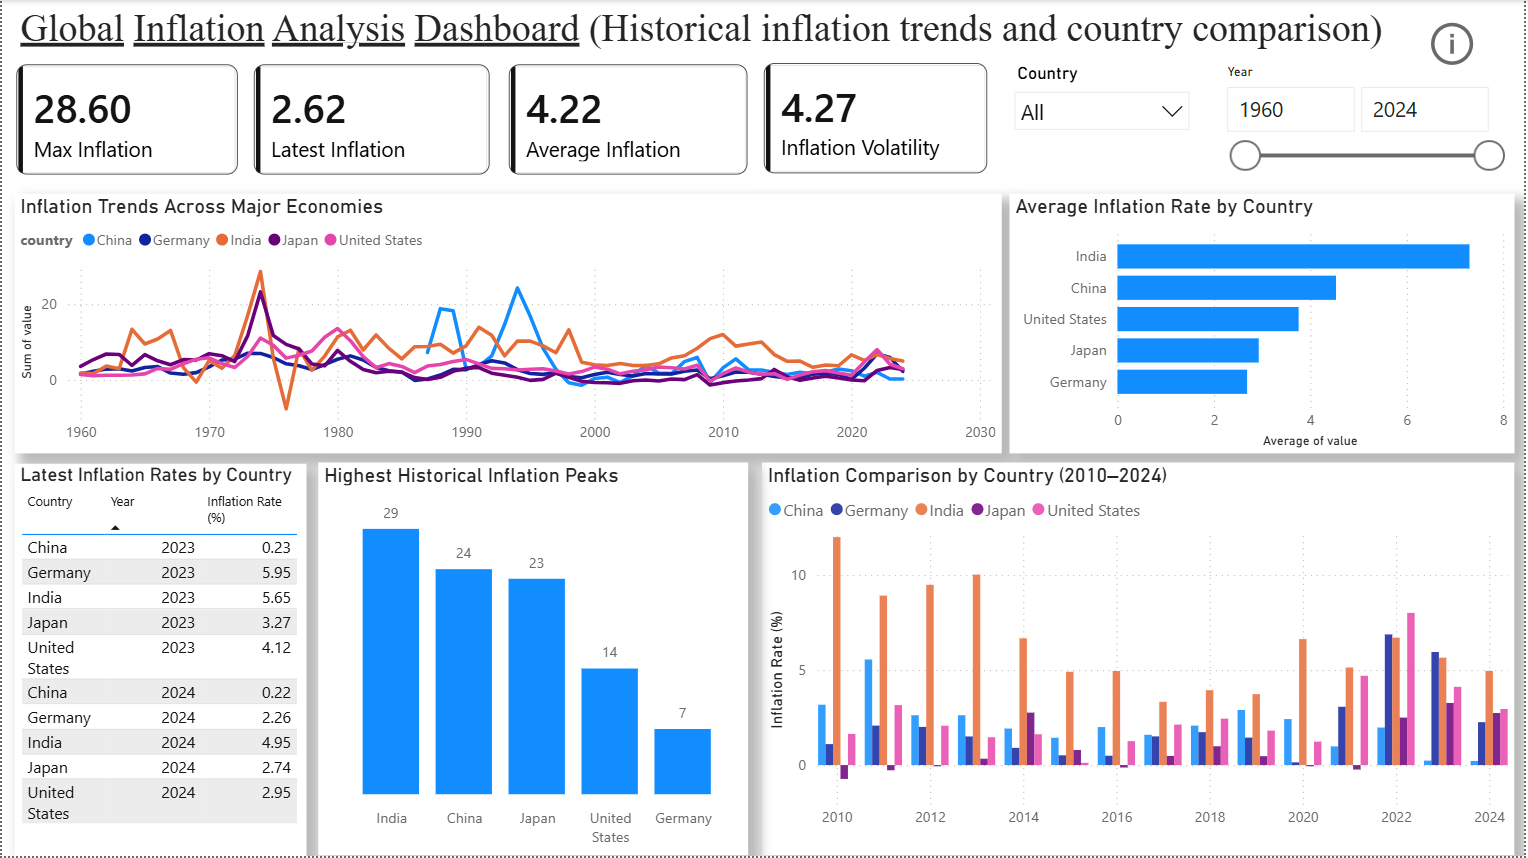

This screenshot's page, from the dashboard's own definition file:
{"tool":"powerbi","page":{"name":"Inflation Analysis","canvas":[1280,720],"ordinal":2},"visuals":[{"type":"textbox","box":[10.2,0,1177.7,48.6],"z":0},{"type":"slicer","fields":{"Values":["economic_analytics economic_data.country"]},"box":[840.7,48.8,167.4,97.7],"z":1000},{"type":"slicer","fields":{"Values":["economic_analytics economic_data.year"]},"box":[1017.4,48.8,254.7,97.7],"z":2000},{"type":"cardVisual","fields":{"Data":["economic_analytics economic_data.Latest Inflation"]},"box":[200,41.9,222.1,117.4],"z":3000},{"type":"cardVisual","fields":{"Data":["economic_analytics economic_data.Max Inflation"]},"box":[0,41.9,210.5,117.4],"z":4000},{"type":"cardVisual","fields":{"Data":["economic_analytics economic_data.Average Inflation"]},"box":[414,41.9,225.6,117.4],"z":5000},{"type":"lineChart","title":"Inflation Trends Across Major Economies","fields":{"Category":["economic_analytics economic_data.year"],"Series":["economic_analytics economic_data.country"],"Y":["Sum(economic_analytics economic_data.value)"]},"box":[10.5,162.8,830.2,218.6],"z":6000},{"type":"clusteredBarChart","title":"Average Inflation Rate by Country","fields":{"Category":["economic_analytics economic_data.country"],"Y":["Avg(economic_analytics economic_data.value)"]},"box":[847.7,162.8,424.4,218.6],"z":7000},{"type":"tableEx","title":"Latest Inflation Rates by Country","fields":{"Values":["economic_analytics economic_data.country","economic_analytics economic_data.year","Sum(economic_analytics economic_data.value)"]},"box":[11,389.7,245.6,330.7],"z":8000},{"type":"cardVisual","fields":{"Data":["economic_analytics economic_data.Inflation Volatility"]},"box":[628.4,41.5,212.2,117.7],"z":9000},{"type":"clusteredColumnChart","title":"Inflation Comparison by Country (2010–2024)","fields":{"Category":["economic_analytics economic_data.year"],"Series":["economic_analytics economic_data.country"],"Y":["Avg(economic_analytics economic_data.value)"]},"box":[639.5,389.5,632.6,330.2],"z":10000},{"type":"clusteredColumnChart","title":"Highest Historical Inflation Peaks","fields":{"Category":["economic_analytics economic_data.country"],"Y":["Max(economic_analytics economic_data.value)"]},"box":[266.3,389.5,361.6,330.2],"z":11000},{"type":"actionButton","box":[1197,14.1,48.1,46.4],"z":12500}]}

Visuals, with their boxes in screenshot pixels (x1, y1, x2, y2), scaled from the page's 1280x720 canvas onto the 1528x858 screenshot:
textbox: bbox=(12, 0, 1418, 58)
slicer - economic_analytics economic_data.country: bbox=(1004, 58, 1203, 175)
slicer - economic_analytics economic_data.year: bbox=(1215, 58, 1519, 175)
cardVisual - economic_analytics economic_data.Latest Inflation: bbox=(239, 50, 504, 190)
cardVisual - economic_analytics economic_data.Max Inflation: bbox=(0, 50, 251, 190)
cardVisual - economic_analytics economic_data.Average Inflation: bbox=(494, 50, 764, 190)
"Inflation Trends Across Major Economies" lineChart: bbox=(13, 194, 1004, 455)
"Average Inflation Rate by Country" clusteredBarChart: bbox=(1012, 194, 1519, 455)
"Latest Inflation Rates by Country" tableEx: bbox=(13, 464, 306, 857)
cardVisual - economic_analytics economic_data.Inflation Volatility: bbox=(750, 49, 1003, 190)
"Inflation Comparison by Country (2010–2024)" clusteredColumnChart: bbox=(763, 464, 1519, 857)
"Highest Historical Inflation Peaks" clusteredColumnChart: bbox=(318, 464, 750, 857)
actionButton: bbox=(1429, 17, 1486, 72)
